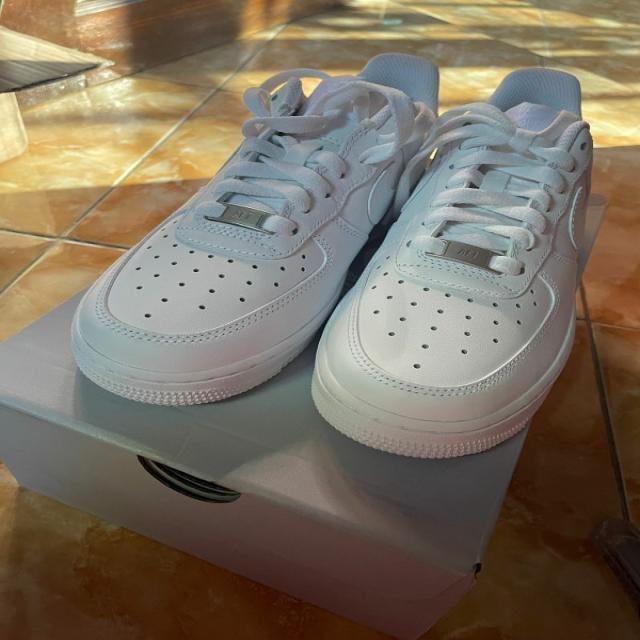nike original air force: (71, 69, 433, 404), (318, 66, 600, 462)
